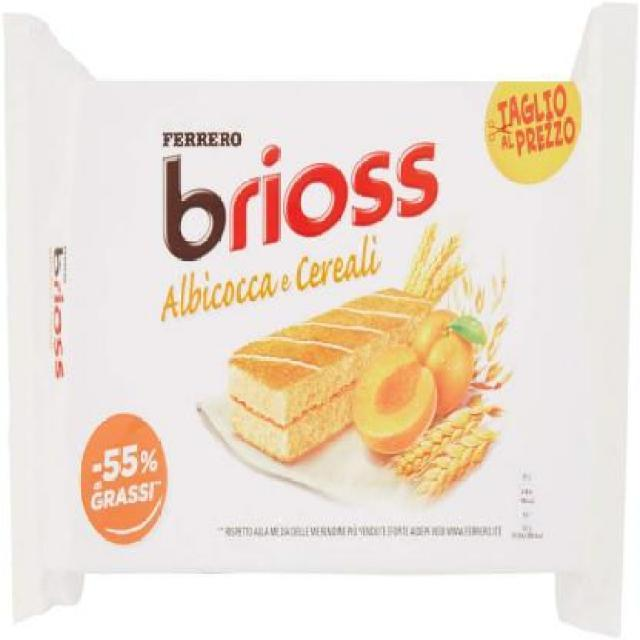Merendine: (2, 5, 640, 637)
Merendine packaged: (227, 286, 435, 466)
